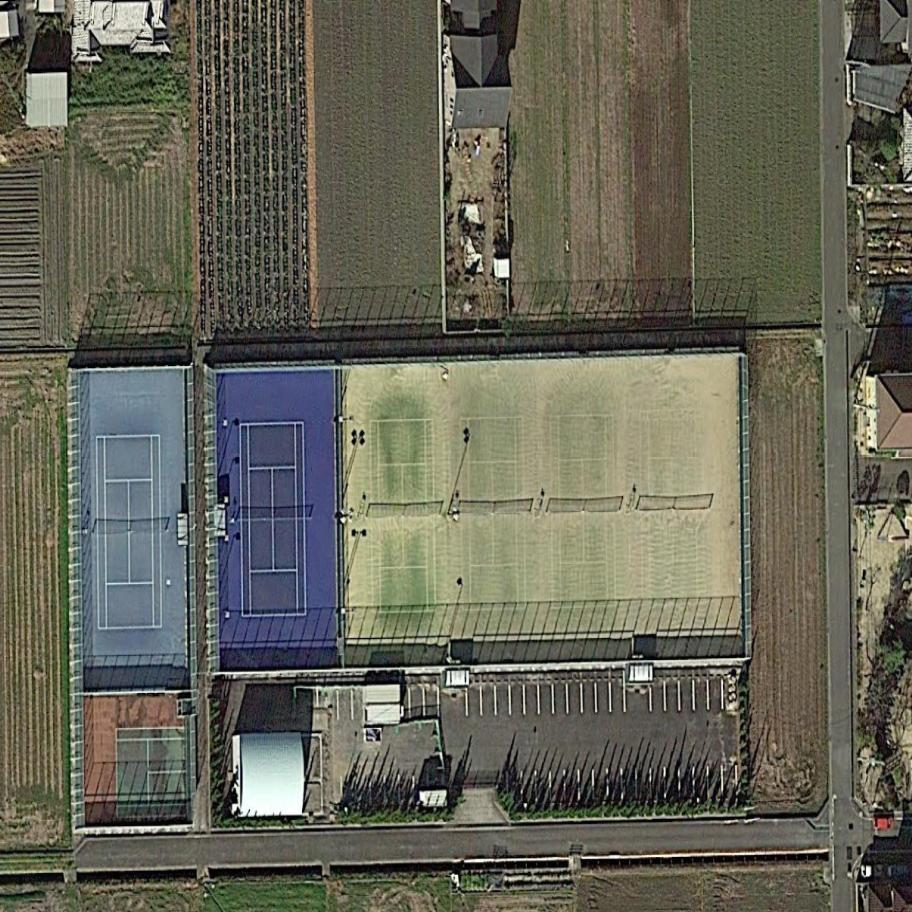small-vehicle: (861, 864, 886, 880), (872, 816, 895, 832), (887, 864, 910, 879)
